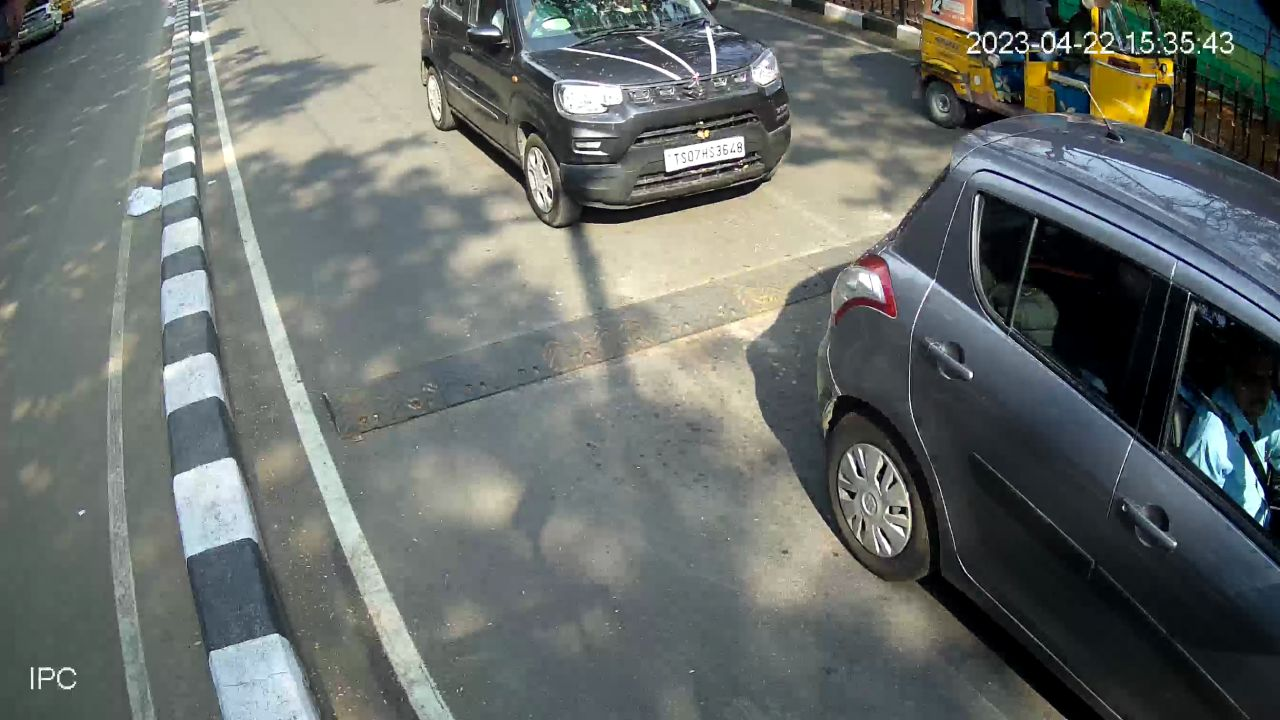license_plate: (657, 130, 750, 179)
